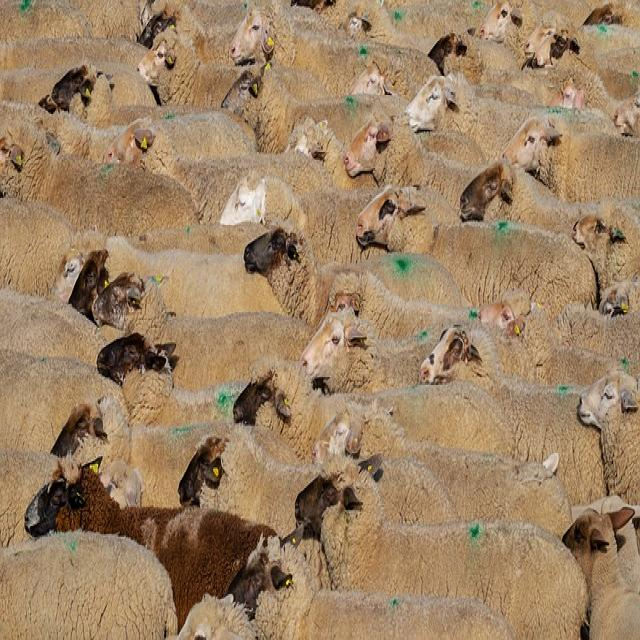sheep: (0, 0, 639, 638), (294, 456, 589, 638), (23, 450, 280, 632), (243, 225, 523, 341), (355, 182, 598, 315), (459, 157, 639, 298), (0, 113, 198, 236), (0, 528, 178, 638), (561, 506, 639, 638)
